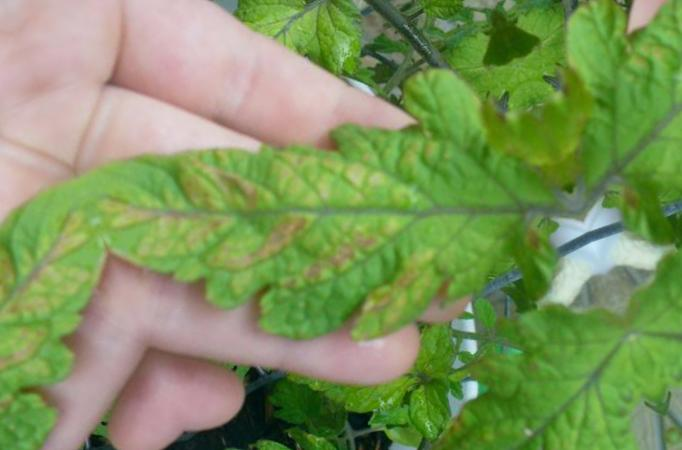Tomato leaf bacterial spot: (69, 0, 599, 433), (364, 264, 676, 450)
